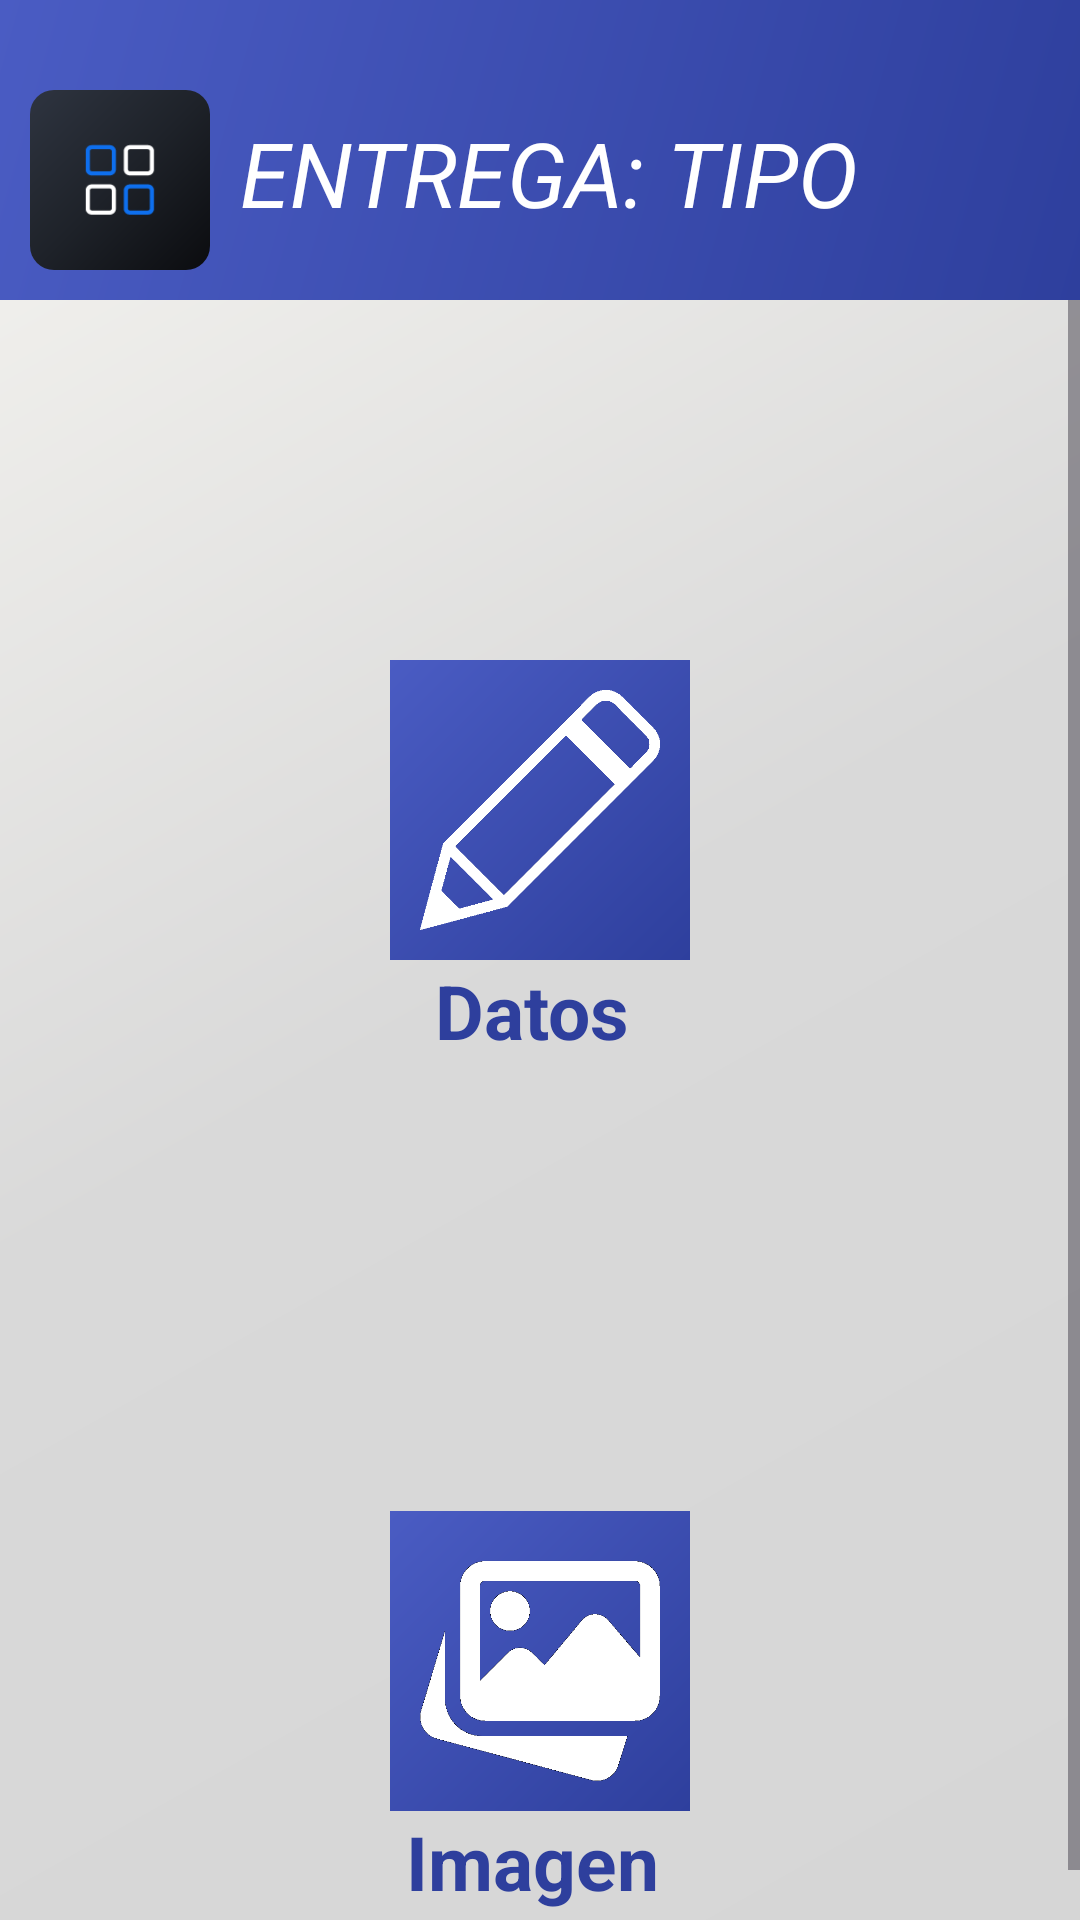

Named icons in this screenshot (1080px x 1920px) and their bounding boxes, (x1, y1, x2, y2):
galeria: (390, 1511, 690, 1811)
lapiz: (390, 660, 690, 960)
menu: (30, 90, 210, 270)
